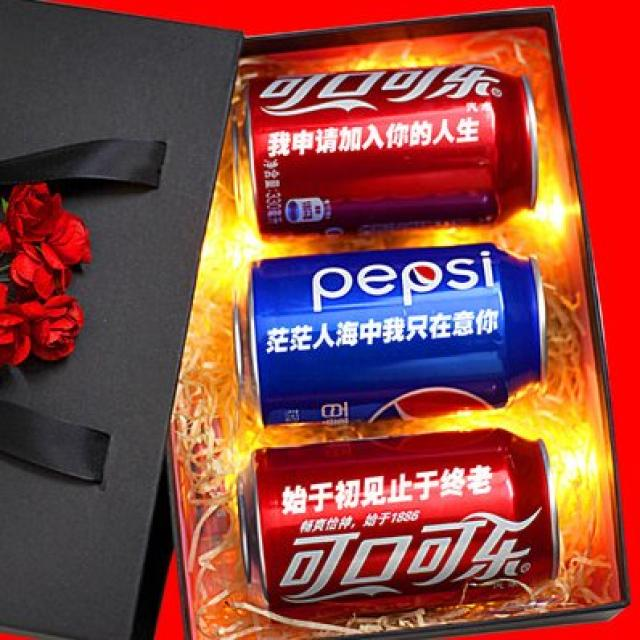-Recyclables - can-: (238, 426, 562, 608), (233, 244, 546, 415), (233, 68, 539, 233)
